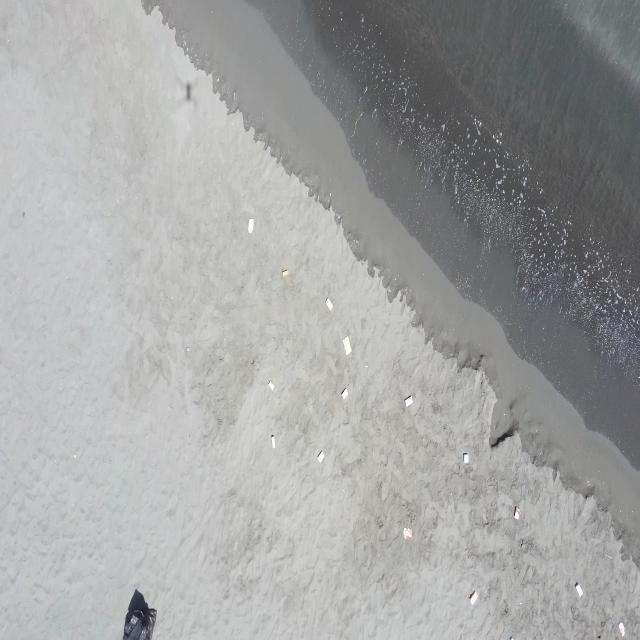retort-pouch: (341, 335, 353, 356), (617, 621, 627, 638), (468, 590, 479, 605), (324, 296, 334, 312), (246, 218, 256, 234), (574, 582, 584, 598), (404, 394, 414, 409), (316, 450, 326, 464), (402, 527, 412, 540), (267, 379, 276, 392), (514, 506, 522, 520), (340, 388, 349, 400), (270, 434, 277, 449), (462, 453, 471, 464), (282, 270, 290, 278)
